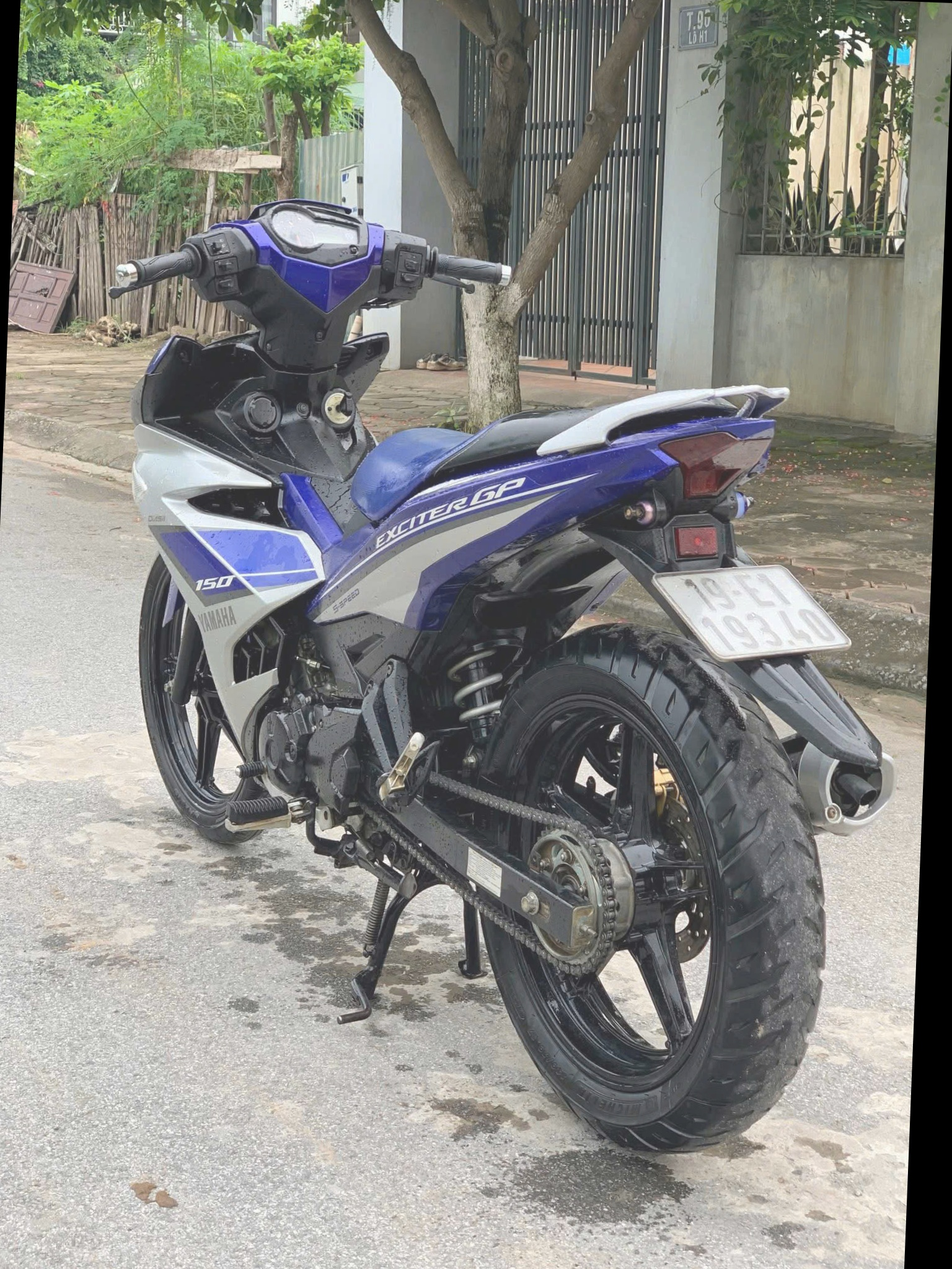Bien-so: (669, 541, 885, 654)
